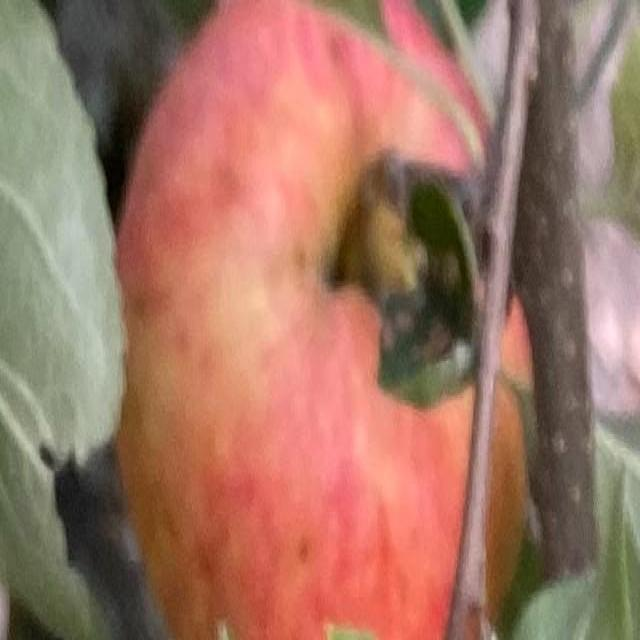Rotten Apple: (119, 0, 534, 640)
